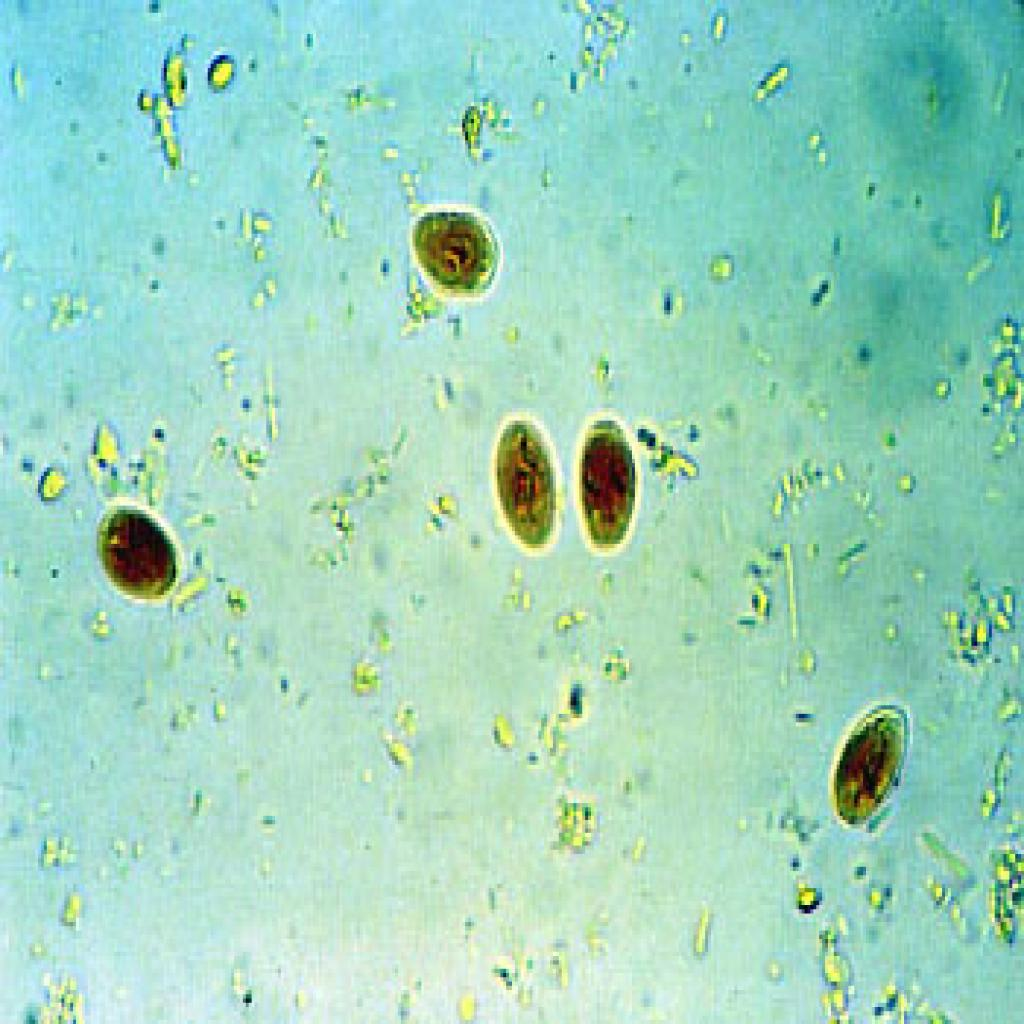Giardia: (825, 697, 916, 837), (570, 408, 644, 557), (404, 196, 503, 302), (94, 493, 184, 607), (492, 412, 562, 557)
